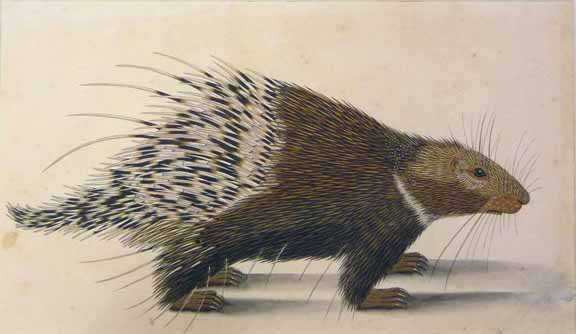porcupine: (7, 62, 541, 309)
